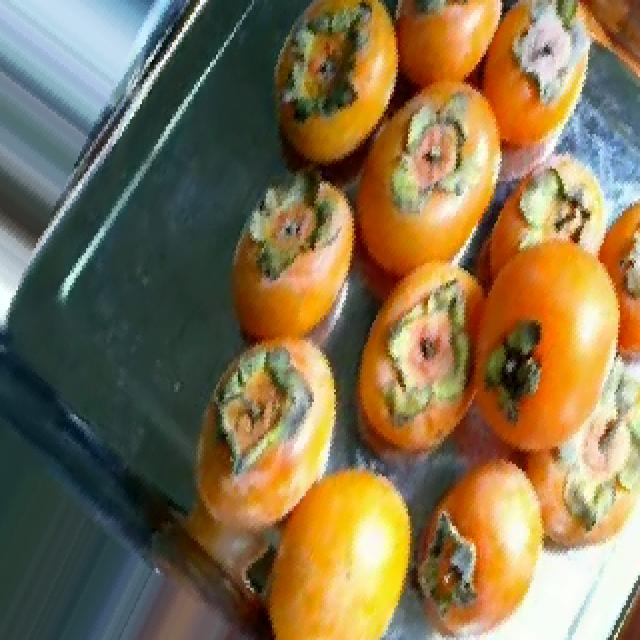Fruit: (552, 0, 640, 97), (590, 181, 640, 320)
